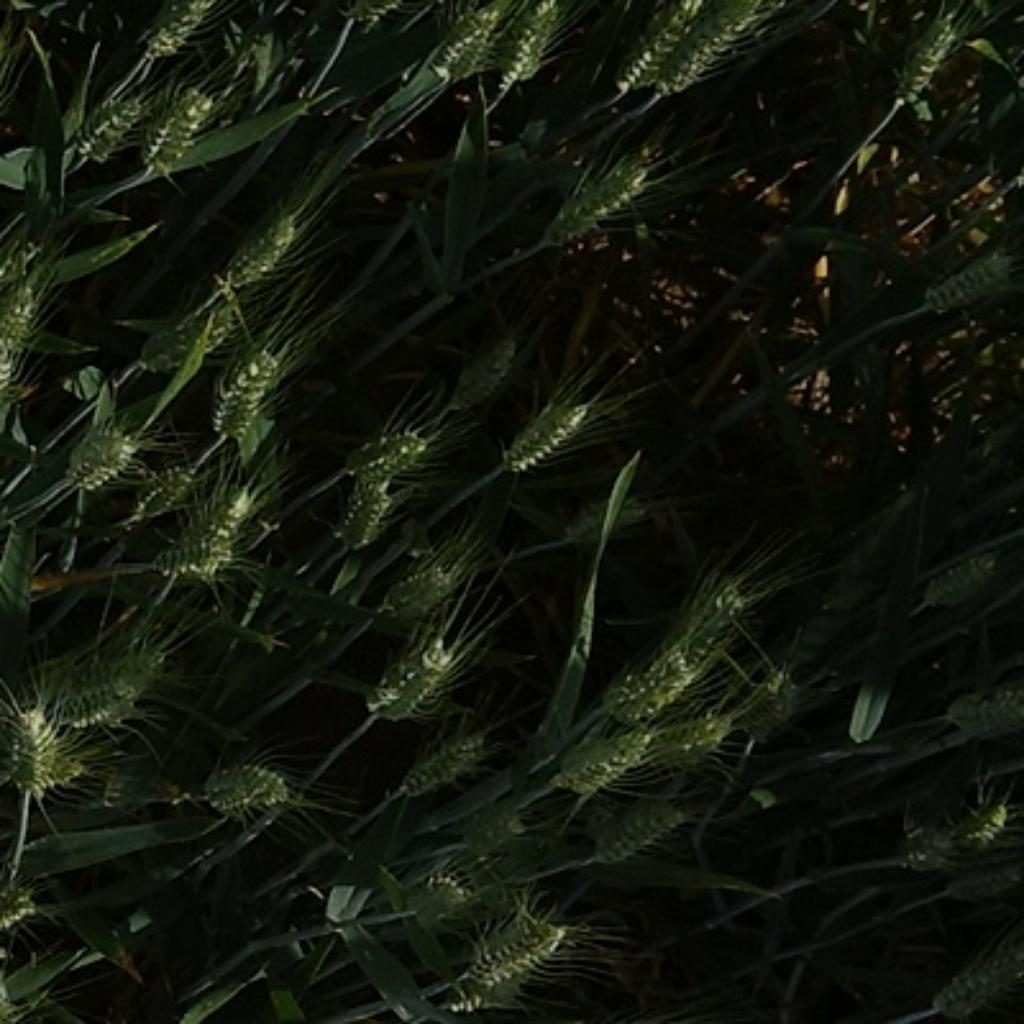0-0: (596, 624, 711, 724), (657, 2, 768, 99), (545, 143, 657, 238), (125, 71, 230, 171), (491, 384, 601, 478), (204, 330, 294, 440), (133, 294, 238, 384), (368, 624, 465, 721), (215, 199, 312, 294), (673, 568, 762, 668), (898, 796, 1006, 878), (391, 721, 504, 798), (64, 74, 161, 163), (886, 5, 971, 104), (581, 788, 696, 860), (637, 693, 742, 770), (555, 714, 657, 793), (192, 742, 296, 819), (622, 2, 709, 89), (494, 2, 568, 104), (56, 409, 145, 491), (0, 696, 76, 791), (378, 550, 468, 627), (471, 919, 568, 990), (179, 483, 266, 560), (61, 637, 176, 693), (23, 683, 140, 737), (729, 673, 816, 744), (140, 537, 240, 593), (350, 424, 440, 486), (570, 483, 657, 547), (445, 337, 517, 414), (427, 12, 499, 89), (320, 478, 394, 550), (919, 256, 1006, 314), (138, 5, 207, 69), (920, 553, 994, 612), (412, 872, 473, 934), (942, 683, 1024, 729), (446, 974, 536, 1015), (0, 277, 46, 354), (145, 458, 202, 512), (0, 880, 42, 952)
